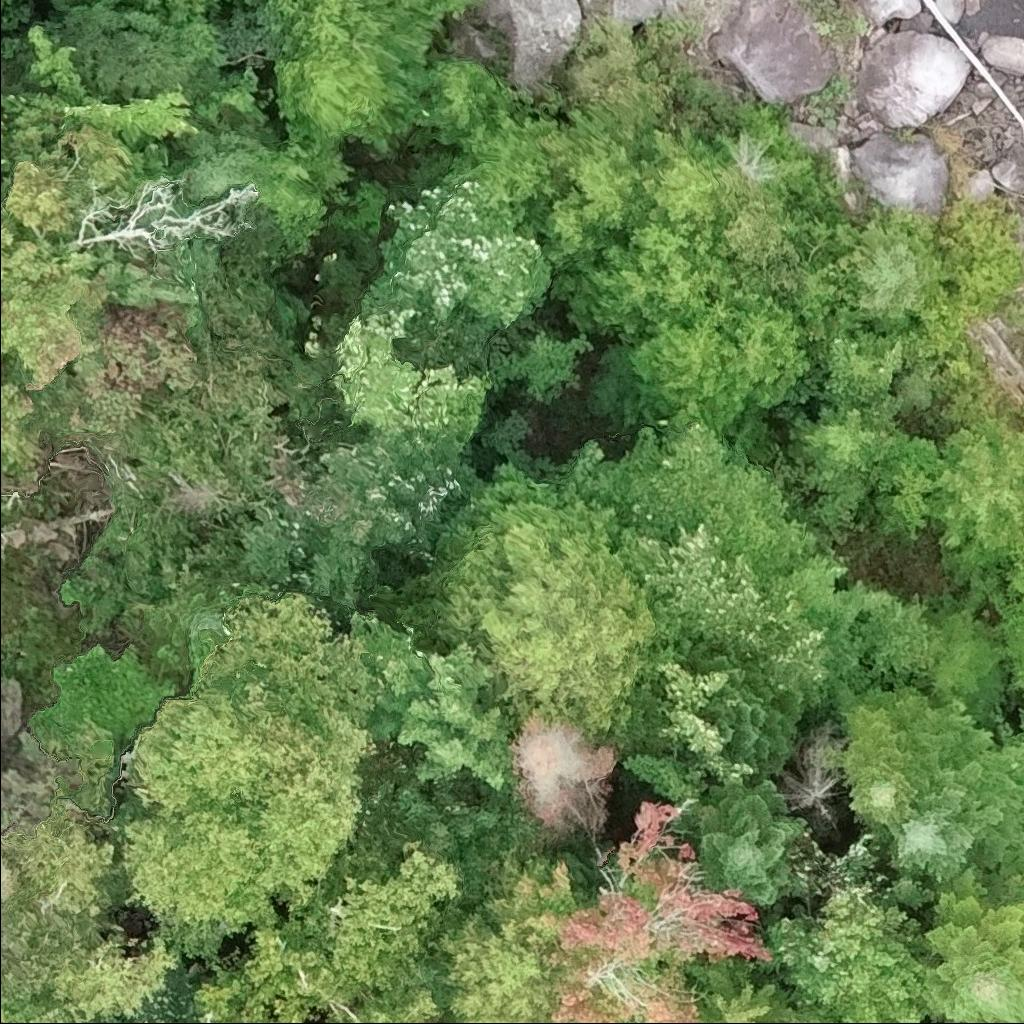crown: (124, 591, 380, 929), (564, 420, 864, 697), (510, 796, 774, 1023), (434, 482, 660, 738), (242, 841, 461, 1023), (1, 807, 183, 1023), (357, 612, 519, 787), (771, 884, 948, 1023), (842, 694, 991, 832), (627, 656, 747, 800), (681, 643, 801, 786), (889, 757, 1023, 882), (441, 900, 553, 1023), (510, 712, 615, 838), (697, 783, 802, 907), (927, 891, 1023, 1023), (193, 971, 280, 1023), (0, 1000, 72, 1023), (946, 1018, 955, 1023)
